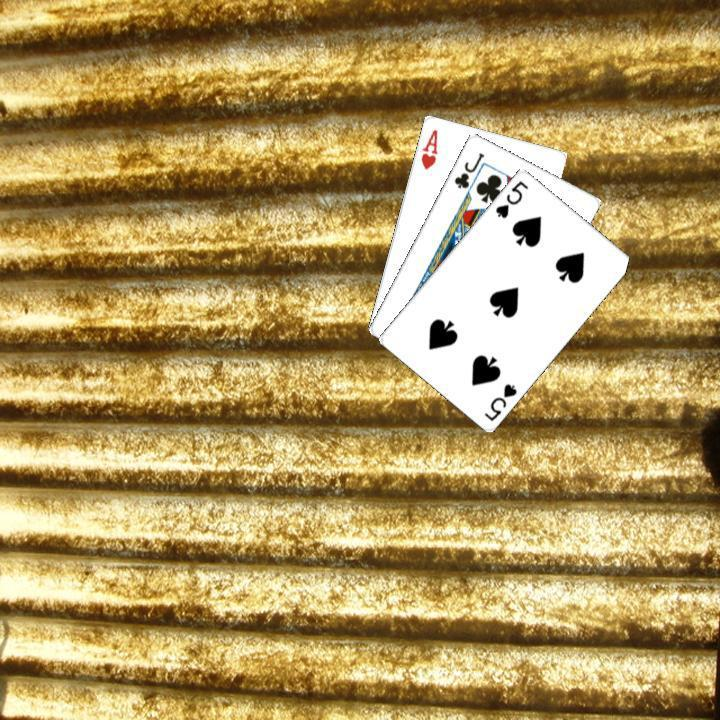5: (491, 176, 530, 220), (480, 379, 519, 423)
A: (416, 125, 440, 171)
J: (449, 148, 486, 190)
